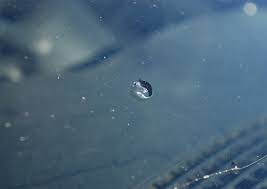bullseye: (123, 75, 165, 108)
scratch: (183, 150, 265, 184)
